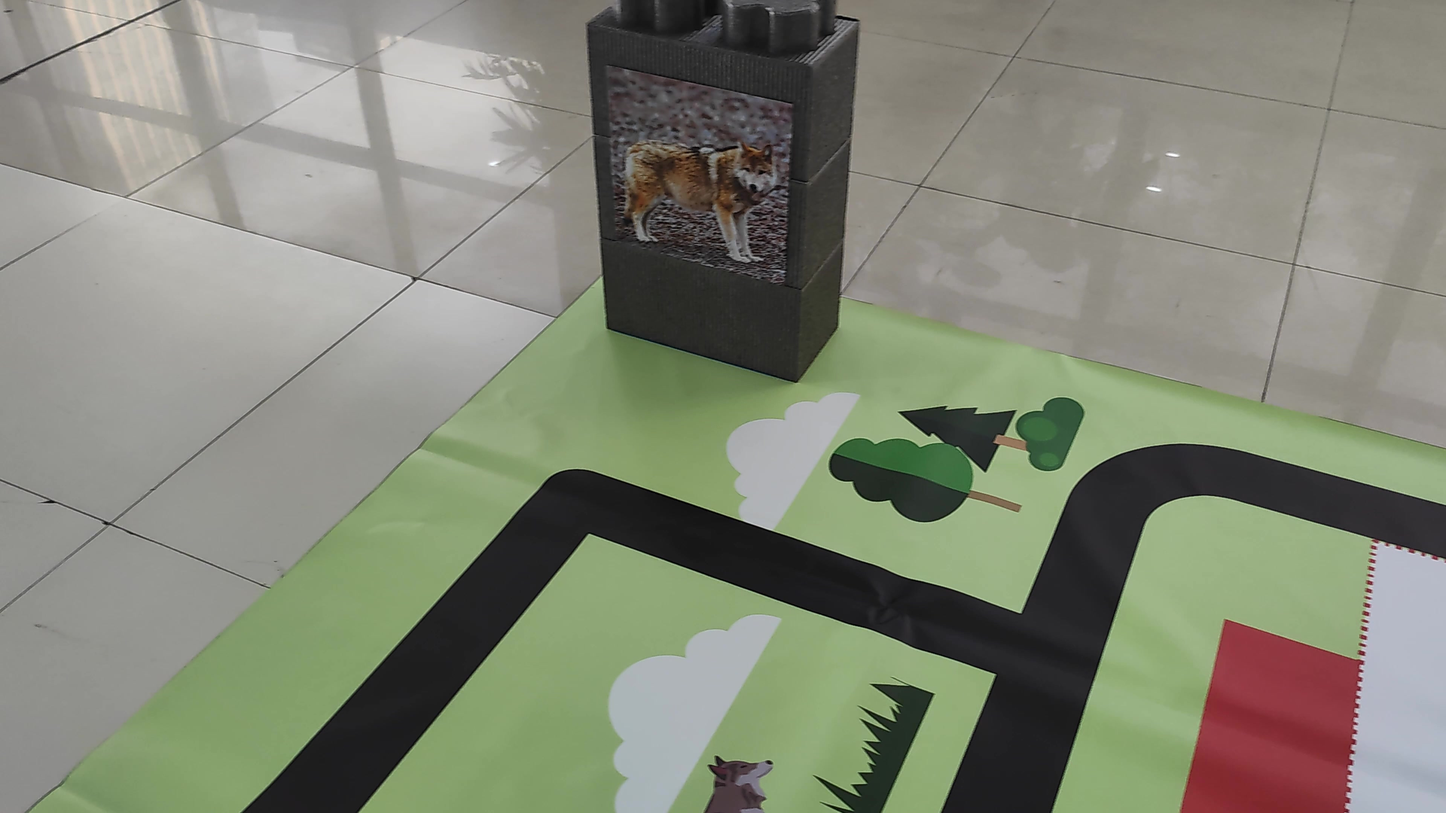wolf: (610, 109, 795, 275)
